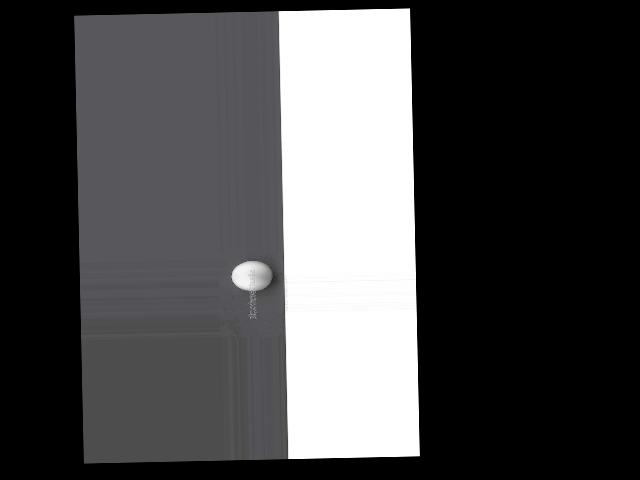egg: (230, 260, 272, 291)
